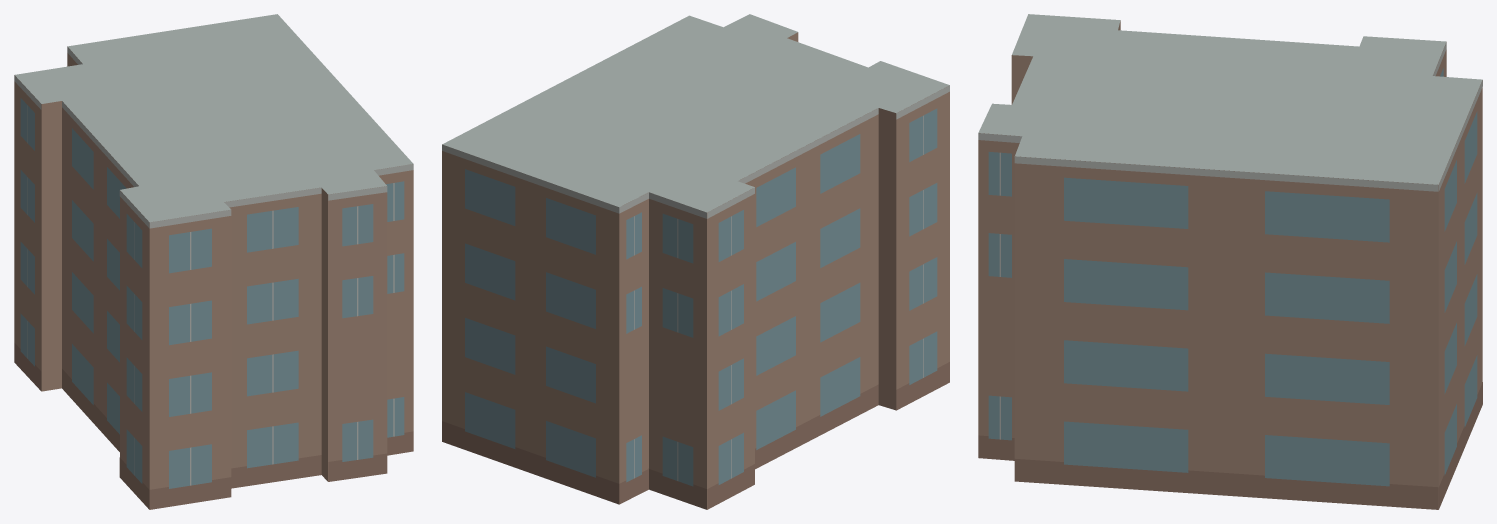
File: survey-upis-32675963.glb
3 renders of one model, left to right at view 1: azimuth 30°, elevation 25°; view 2: azimuth 150°, elevation 25°; view 3: azimuth 270°, elevation 25°, orthographic. The views are drawn at different scales.
Parts seen in each view (by area): view 1: survey-upis-32675963.tmp; view 2: survey-upis-32675963.tmp; view 3: survey-upis-32675963.tmp.
Boxes of the visible parts, left/top/right/bottom form: survey-upis-32675963.tmp: left=14, top=14, right=413, bottom=509; survey-upis-32675963.tmp: left=442, top=14, right=949, bottom=509; survey-upis-32675963.tmp: left=978, top=14, right=1482, bottom=509.
Bounding box in the file's own units: 12.74 × 11.3 × 15.9.
